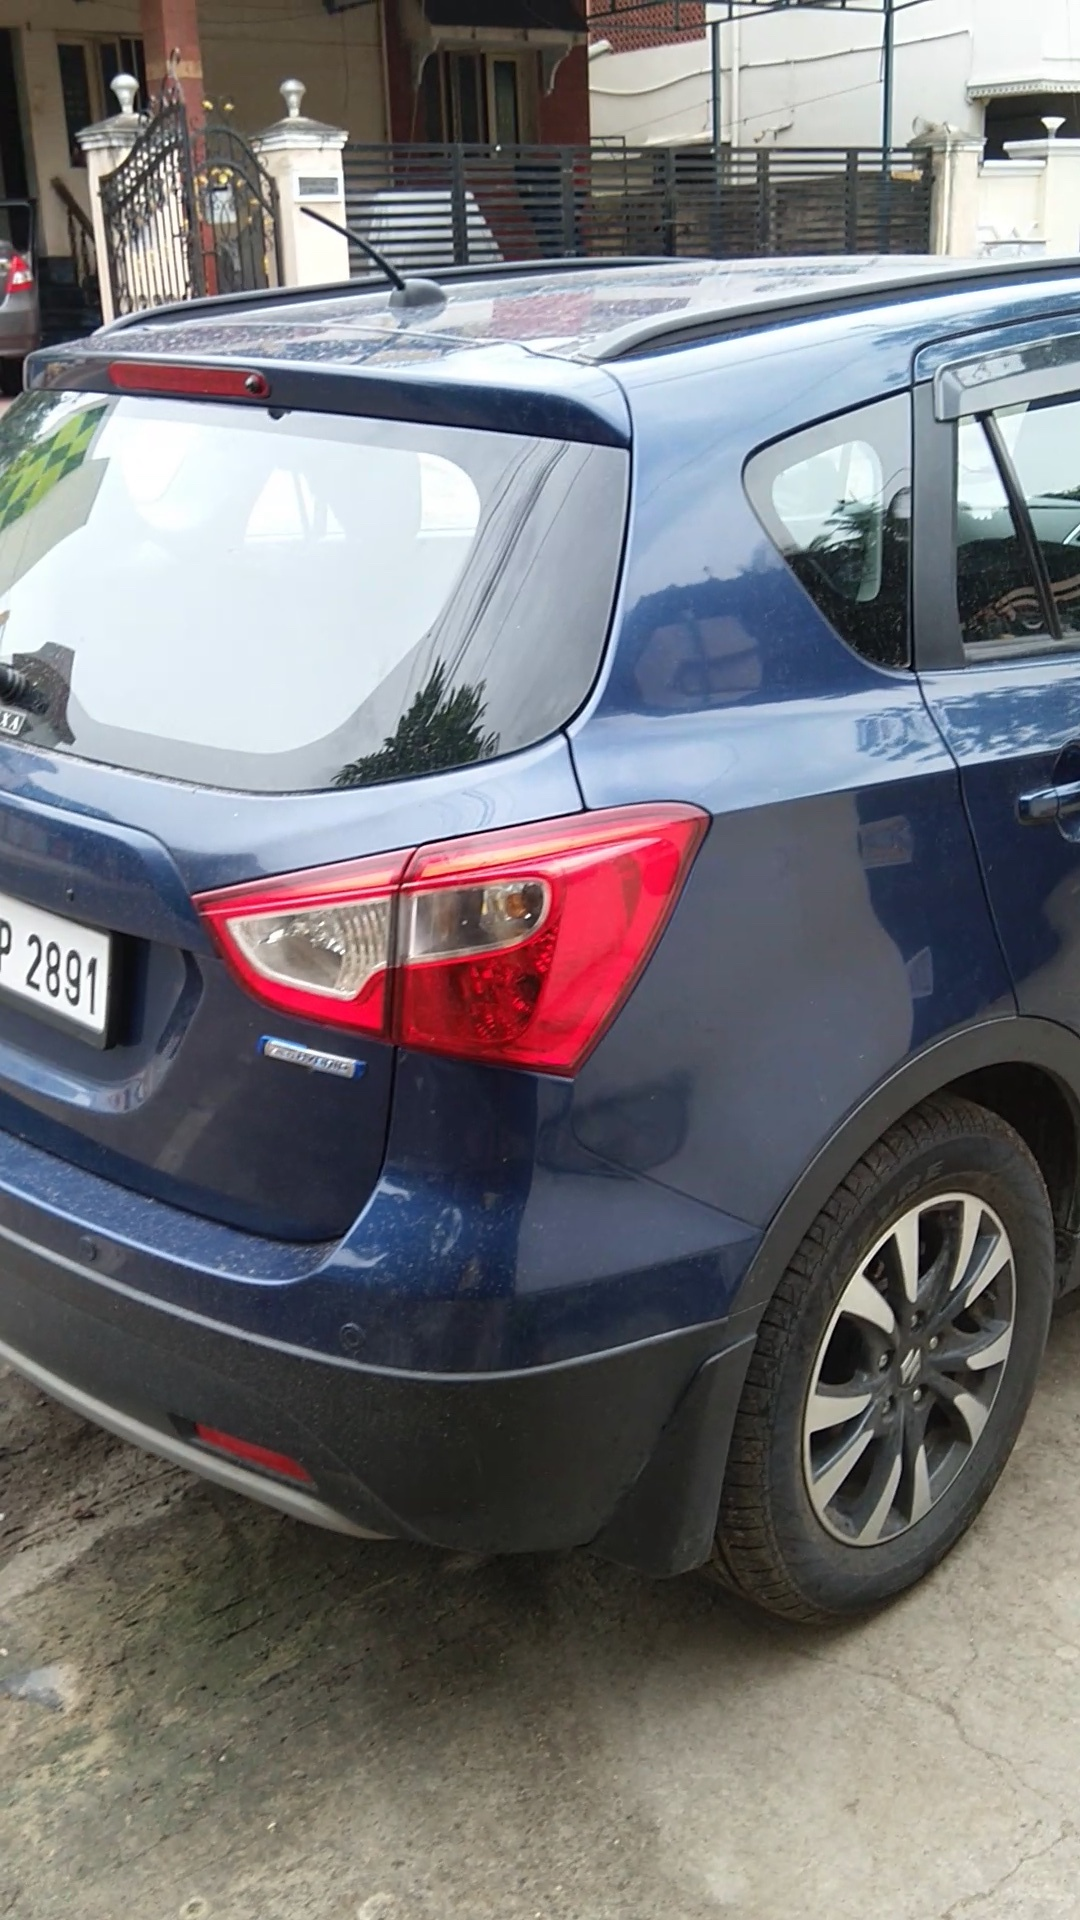alloy_wheel: (721, 1095, 1056, 1633)
rear_camera: (236, 365, 269, 405)
shvs: (249, 1021, 375, 1092)
